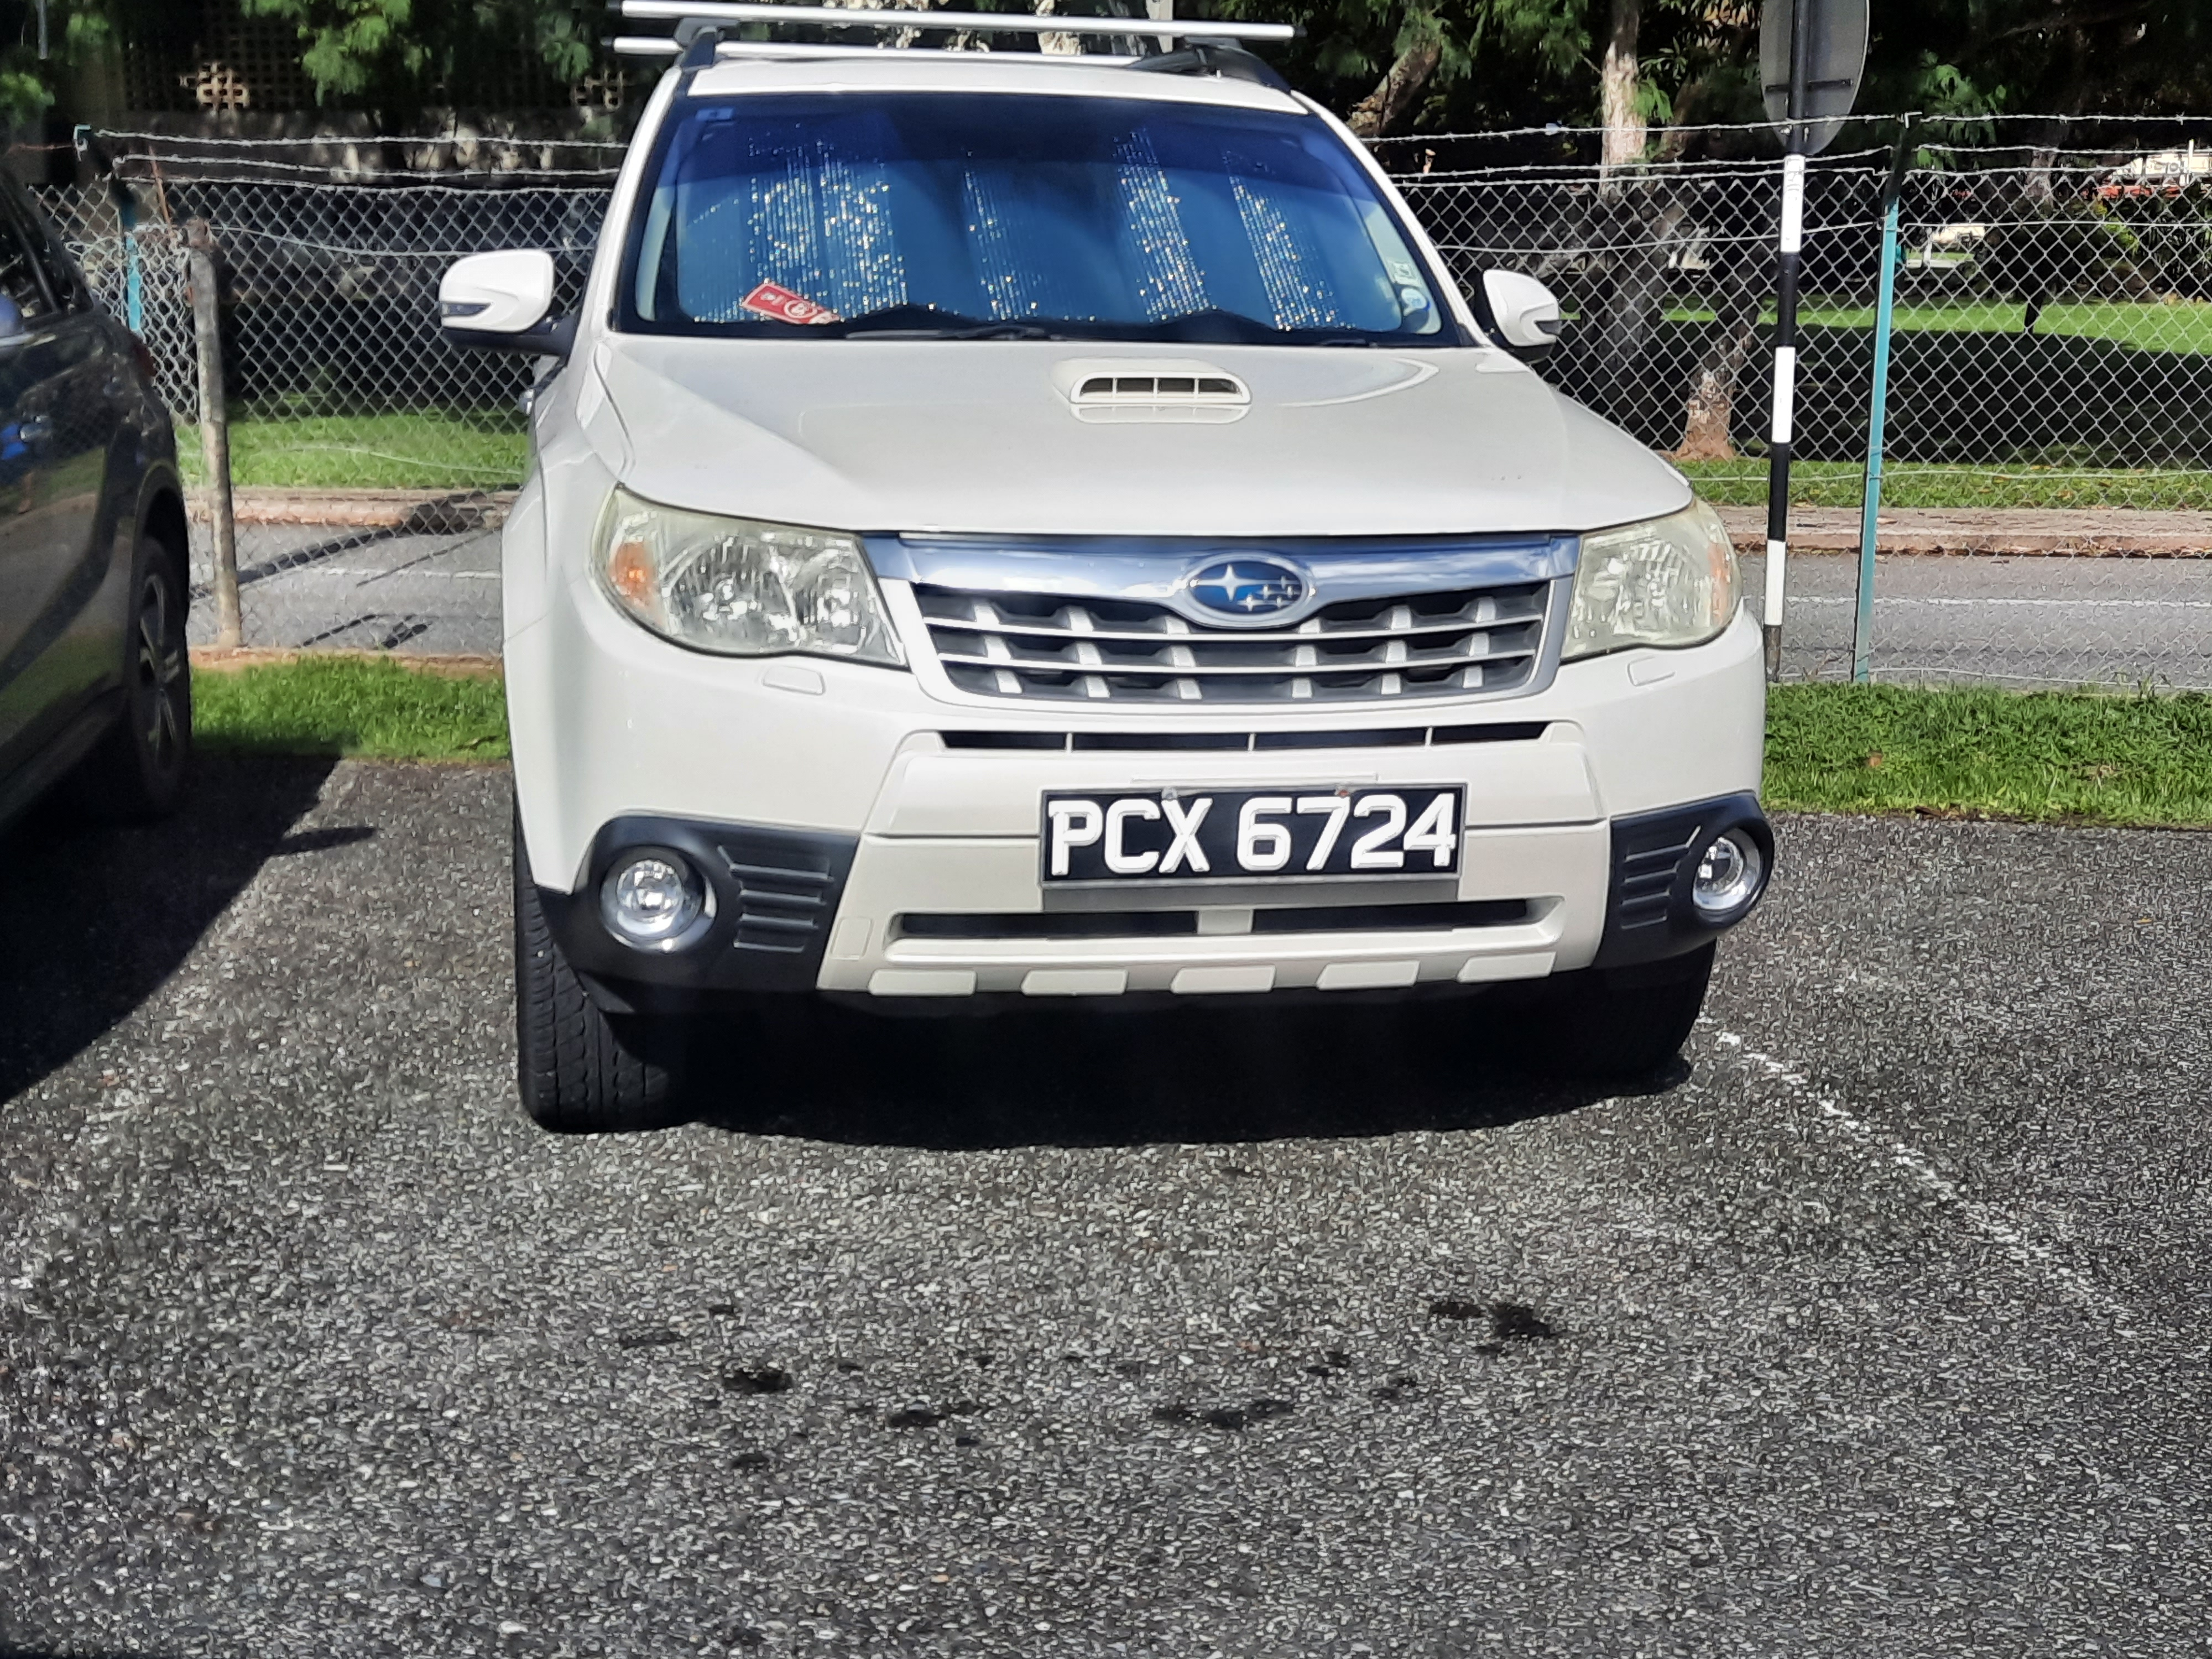License-Plate: (1037, 785, 1468, 884)
